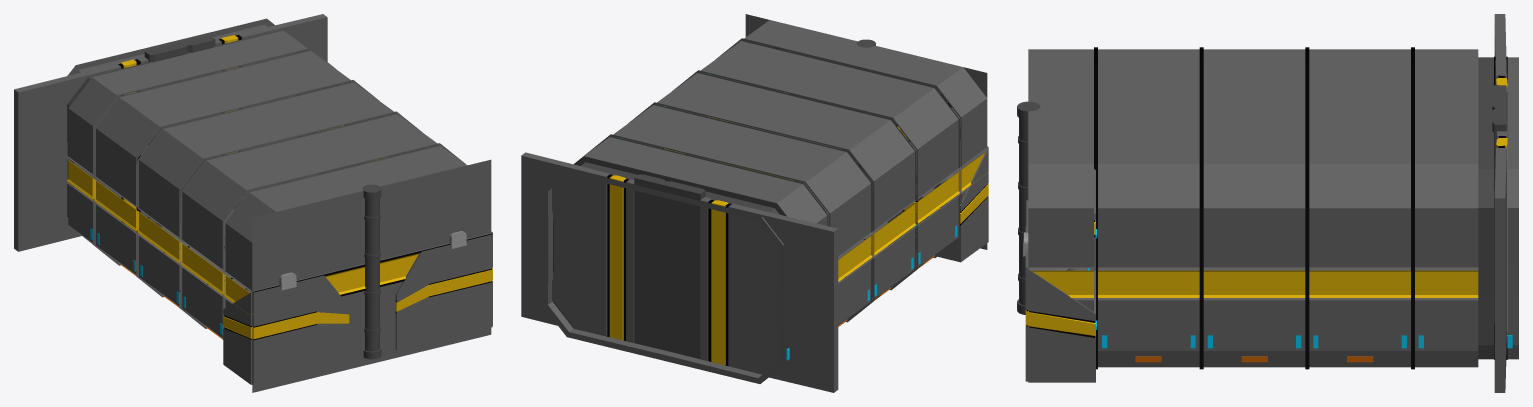
File: LevelModels.fbx
3 views of the same model, side by side, from view 1: azimuth 30°, elevation 25°; view 2: azimuth 150°, elevation 25°; view 3: azimuth 270°, elevation 25° (orthographic). The views are drawn at different scales.
Parts seen in each view (by area): view 1: Wall, Backroom, Cube.005, Cylinder, Cube.004, Cube.016, Doorframetest.002, Cube.017, Doorframetest.001; view 2: Wall, Cube.005, Cube.004, Backroom; view 3: Wall, Backroom, Cube.004, Cylinder, Cube.005, WallLight_b.001.
Part boxes in pixels (<box>): Wall: <box>66,18,492,392</box>; Backroom: <box>223,233,492,385</box>; Cube.005: <box>14,42,187,251</box>; Cylinder: <box>362,184,381,359</box>; Cube.004: <box>176,14,327,196</box>; Cube.016: <box>265,204,478,275</box>; Doorframetest.002: <box>446,185,471,212</box>; Cube.017: <box>279,231,466,290</box>; Doorframetest.001: <box>274,227,299,254</box>; Wall: <box>542,14,988,383</box>; Cube.005: <box>661,181,838,392</box>; Cube.004: <box>521,152,673,349</box>; Backroom: <box>717,122,988,262</box>; Wall: <box>1026,47,1518,369</box>; Backroom: <box>1025,169,1095,382</box>; Cube.004: <box>1492,108,1507,392</box>; Cylinder: <box>1017,101,1040,314</box>; Cube.005: <box>1492,14,1507,131</box>; WallLight_b.001: <box>1102,335,1512,348</box>.
Size of the model in its own units: 3880 by 2122 by 4462.
